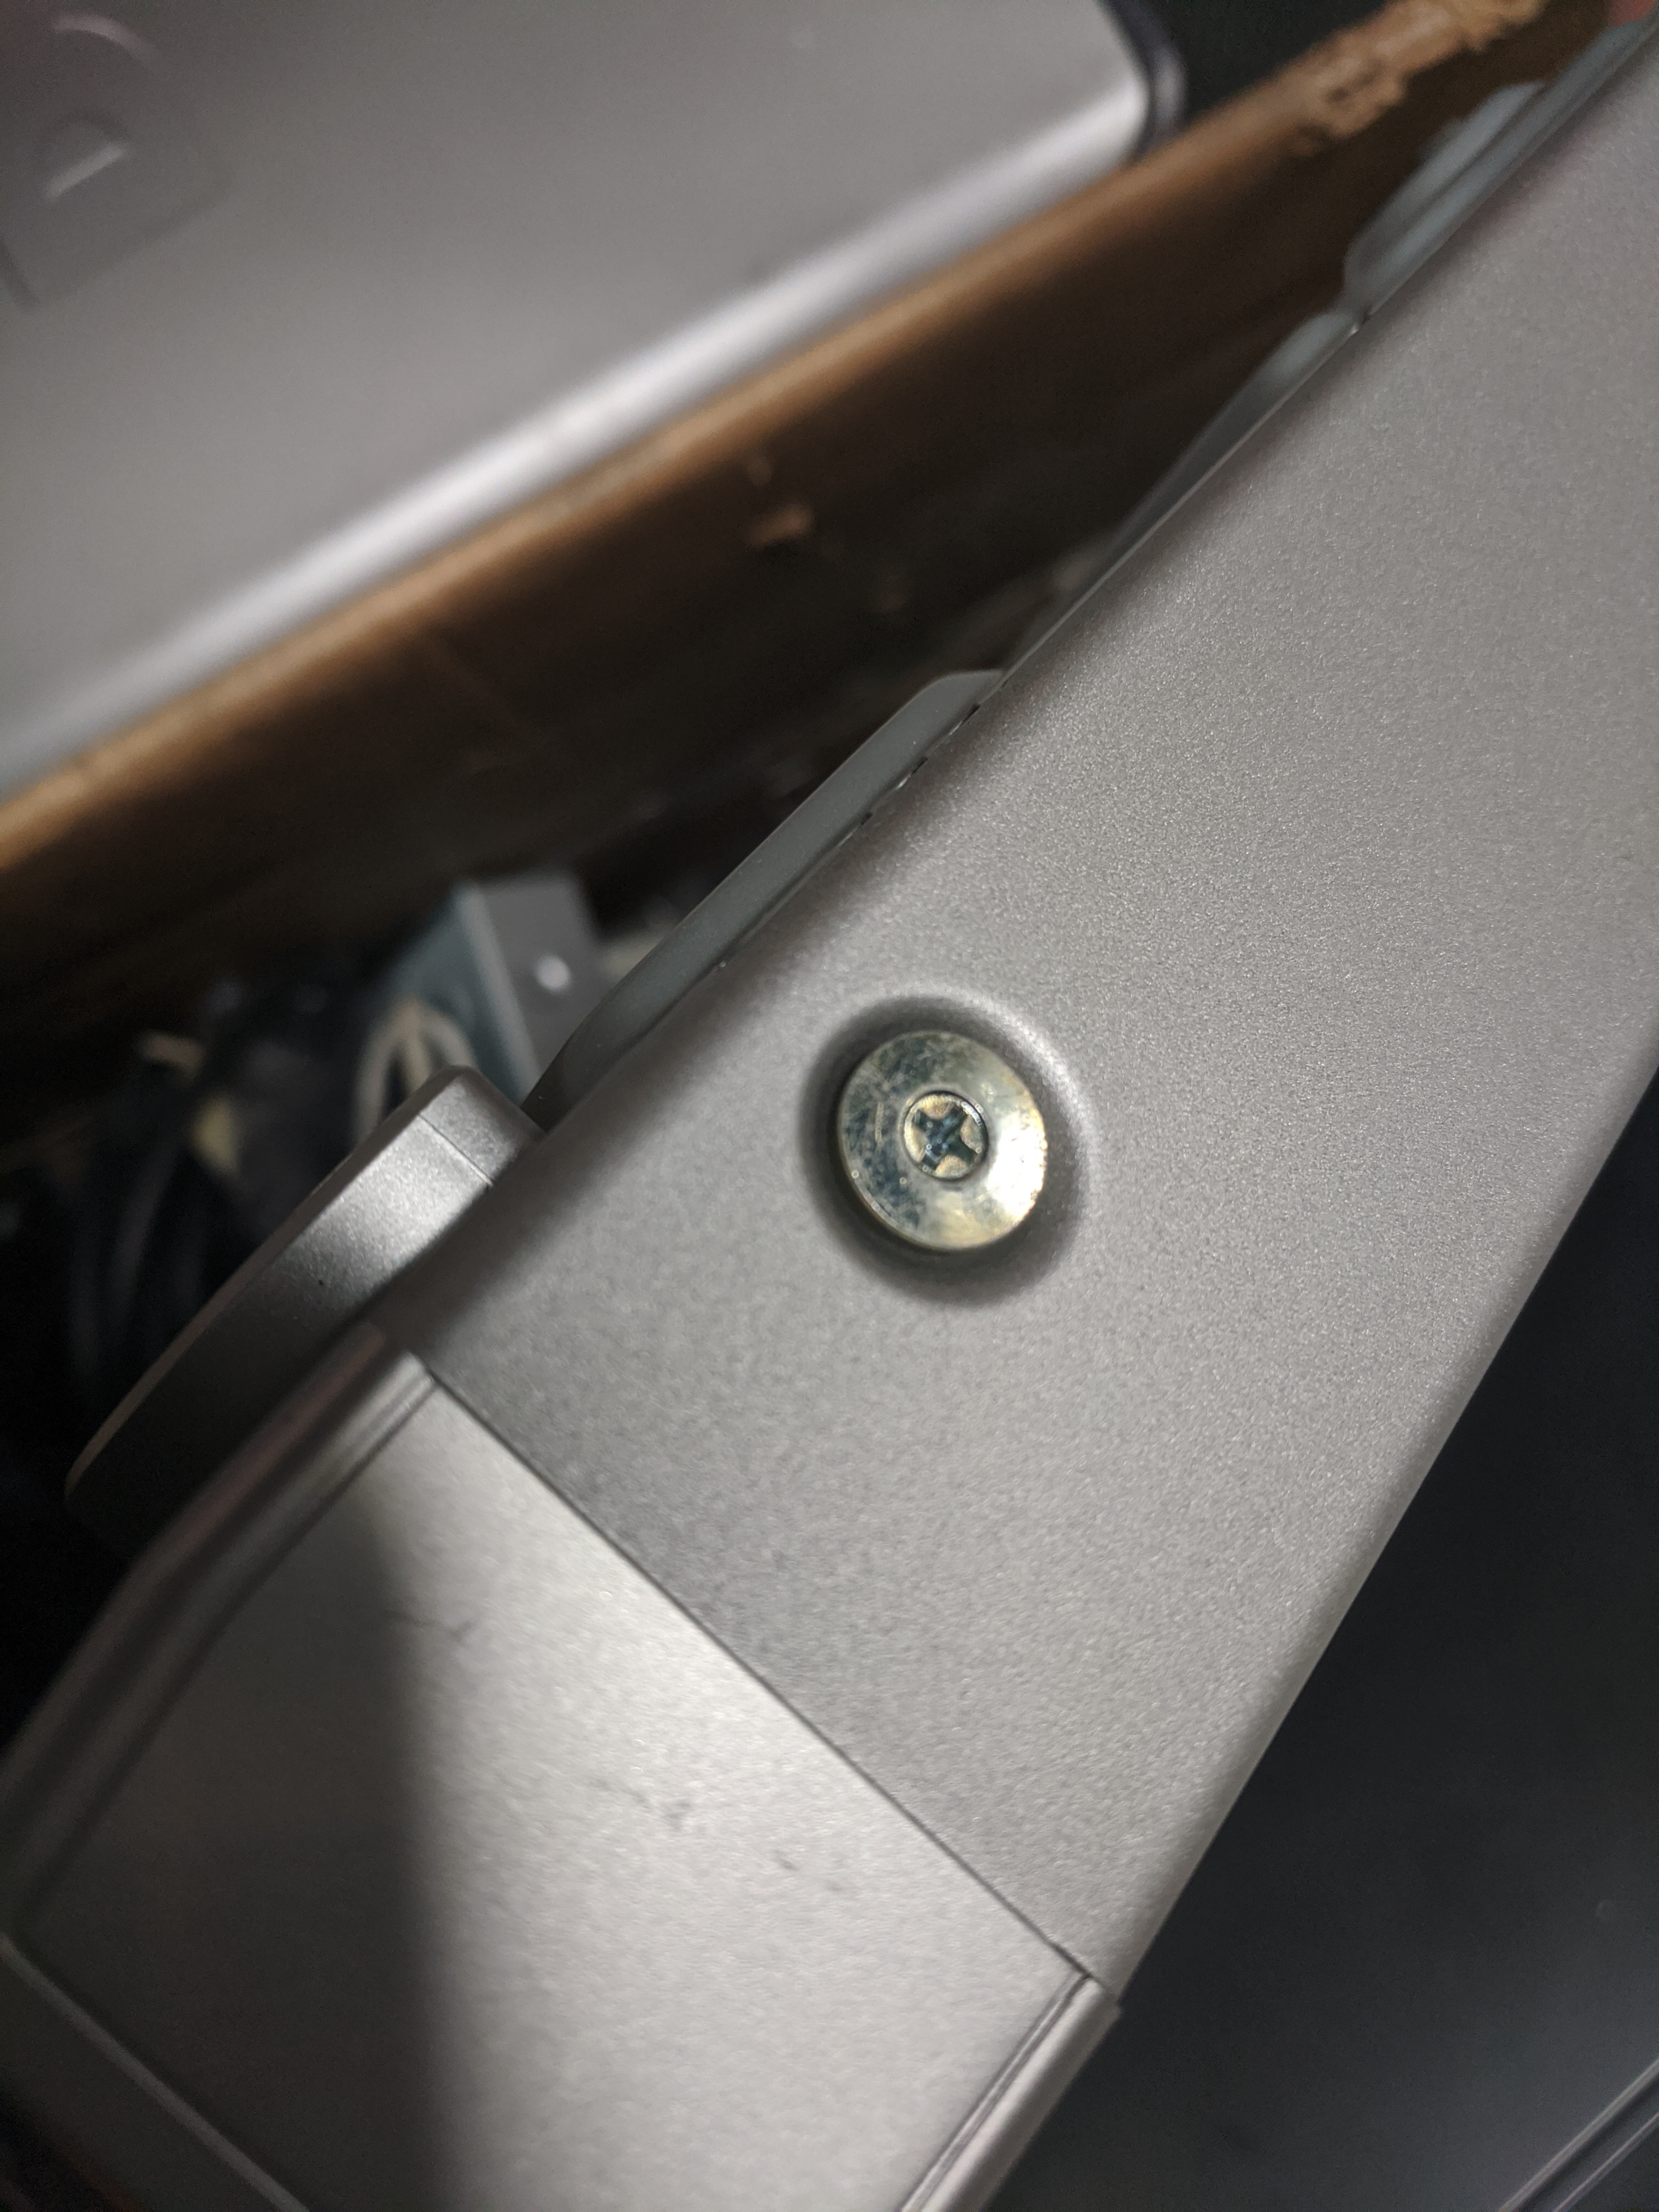cross_recessed_screw: (884, 1062, 1000, 1186)
